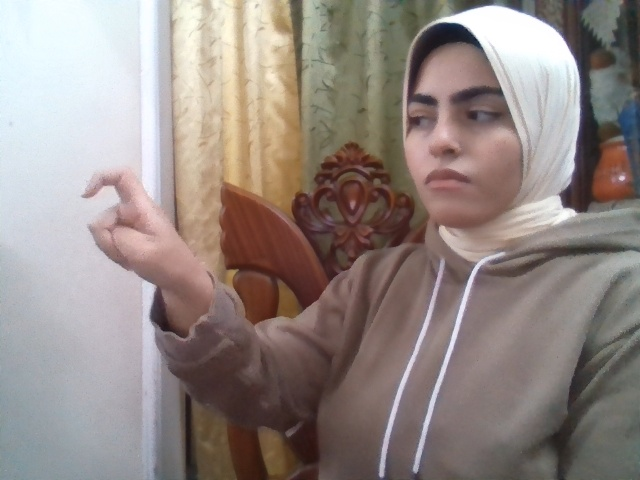X: (82, 168, 188, 287)
